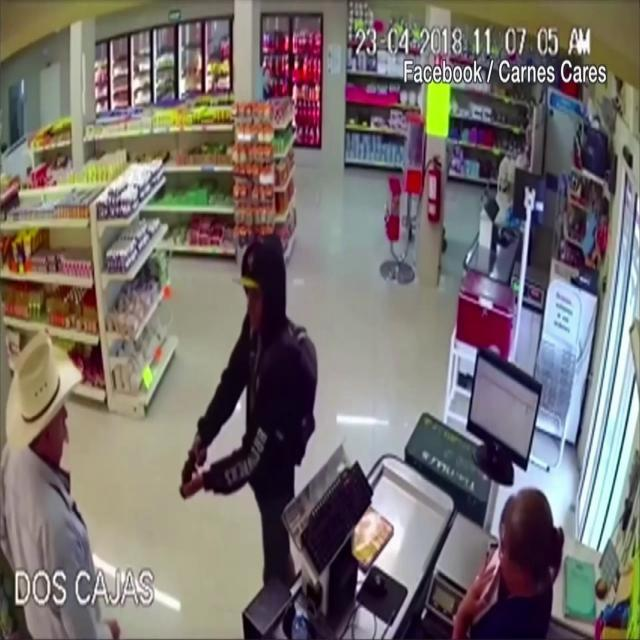weapon: (180, 444, 208, 484)
